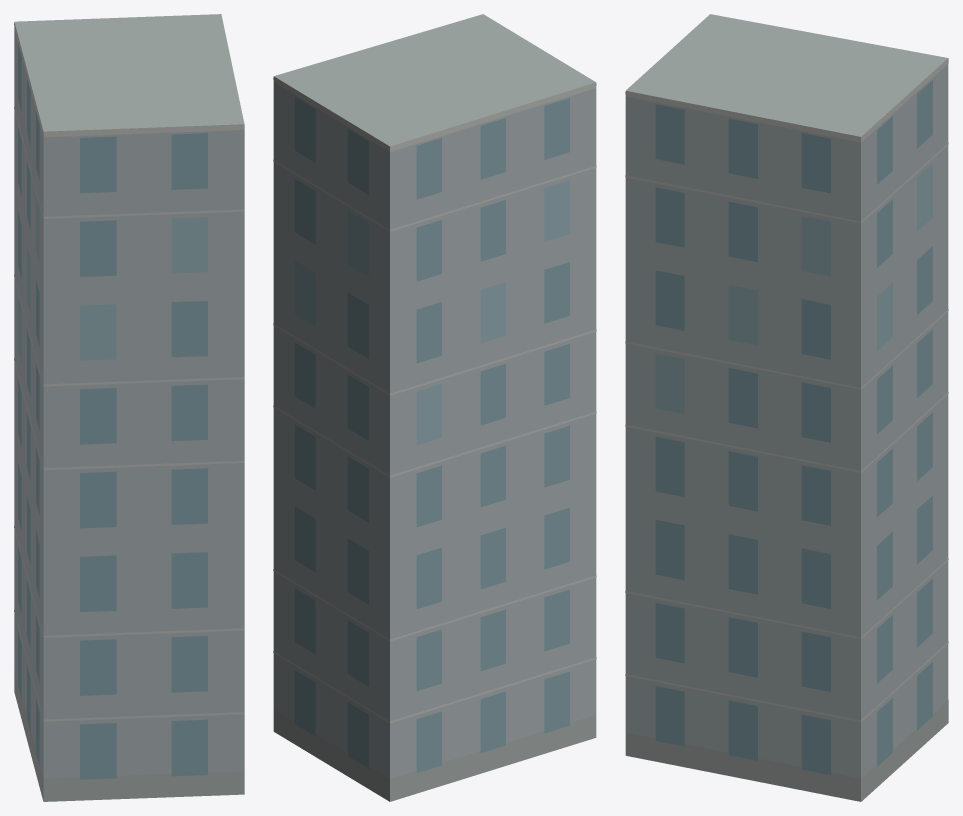
Rendered from survey-upis-32868870.glb.
The picture shows the model from 3 angles, left to right: view 1: azimuth 30°, elevation 25°; view 2: azimuth 150°, elevation 25°; view 3: azimuth 270°, elevation 25°; orthographic projection. The views are drawn at different scales.
Parts seen in each view (by area): view 1: survey-upis-32868870.tmp; view 2: survey-upis-32868870.tmp; view 3: survey-upis-32868870.tmp.
Boxes of the visible parts, <box> form: survey-upis-32868870.tmp: <box>14,14,244,801</box>; survey-upis-32868870.tmp: <box>273,14,596,801</box>; survey-upis-32868870.tmp: <box>625,14,948,801</box>.
Size of the model in its own units: 11.32 by 28.5 by 12.57.
